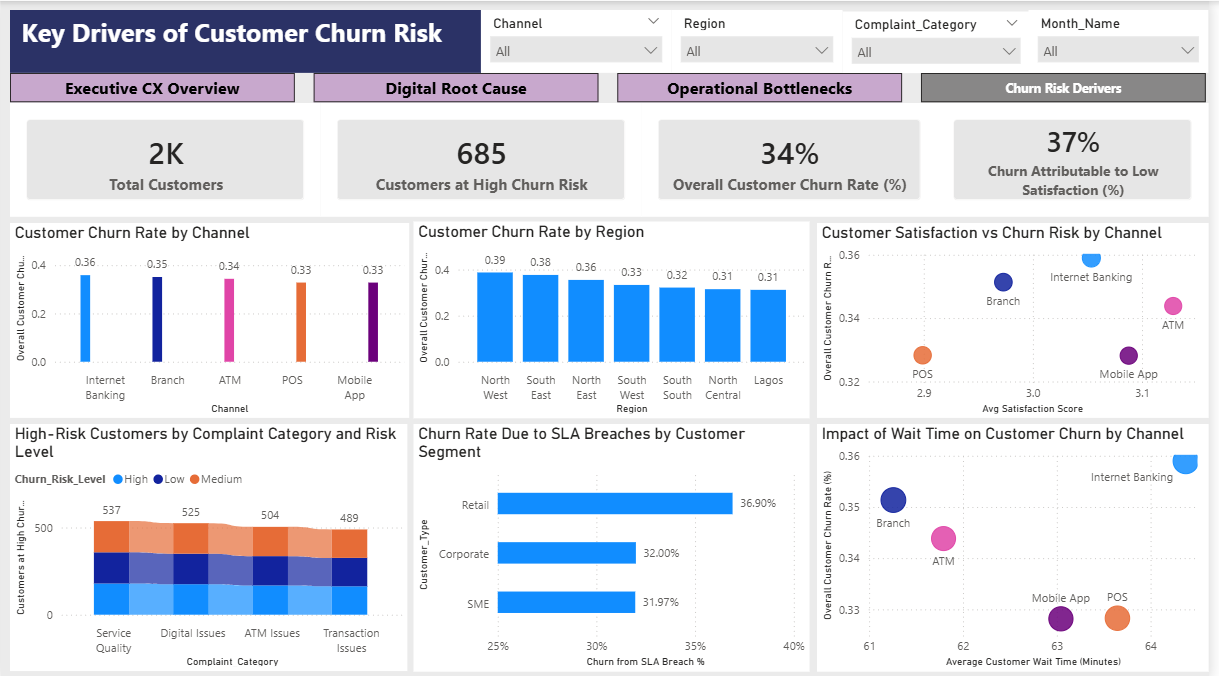

What the dashboard file says about the page in this screenshot:
{"tool":"powerbi","page":{"name":"Churn Risk Derivers","canvas":[1280,720],"ordinal":3},"visuals":[{"type":"slicer","fields":{"Values":["Dim_Channel.Channel"]},"box":[509,9.5,202,66.8],"z":0},{"type":"slicer","fields":{"Values":["Dim_Branch.Region"]},"box":[711,9.5,181.3,66.8],"z":1000},{"type":"slicer","fields":{"Values":["Dim_Complaint.Complaint_Category"]},"box":[892.3,11.1,198.8,65.2],"z":2000},{"type":"slicer","fields":{"Values":["Dim_Date.Month_Name"]},"box":[1089.6,9.5,190.9,66.8],"z":3000},{"type":"cardVisual","fields":{"Data":["Fact_Complaints.Total Customers"]},"box":[0,108.2,329.3,120.9],"z":4000},{"type":"cardVisual","fields":{"Data":["Fact_Complaints.High Churn Customers"]},"box":[338.8,108.2,340.4,120.9],"z":5000},{"type":"cardVisual","fields":{"Data":["Fact_Complaints.Churn Rate %"]},"box":[679.2,108.2,313.4,120.9],"z":6000},{"type":"cardVisual","fields":{"Data":["Fact_Complaints.Churn from Low Satisfaction %"]},"box":[959.1,108.2,321.3,120.9],"z":7000},{"type":"clusteredColumnChart","title":"Customer Churn Rate by Channel","fields":{"Category":["Dim_Channel.Channel"],"Y":["Fact_Complaints.Churn Rate %"],"Series":["Dim_Channel.Channel"]},"box":[0,235.4,432.6,206.8],"z":8000},{"type":"clusteredColumnChart","title":"Customer Churn Rate by Region","fields":{"Category":["Dim_Branch.Region"],"Y":["Fact_Complaints.Churn Rate %"]},"box":[437.4,233.8,419.9,208.4],"z":9000},{"type":"scatterChart","title":"Customer Satisfaction vs Churn Risk by Channel","fields":{"X":["Fact_Complaints.Avg Satisfaction Score"],"Y":["Fact_Complaints.Churn Rate %"],"Series":["Dim_Channel.Channel"],"Size":["Fact_Complaints.Total Customers"]},"box":[865.3,235.4,415.1,206.8],"z":10000},{"type":"columnChart","title":"High-Risk Customers by Complaint Category and Risk Level","fields":{"Category":["Dim_Complaint.Complaint_Category"],"Y":["Fact_Complaints.High Churn Customers"],"Series":["Fact_Complaints.Churn_Risk_Level"]},"box":[9.5,448.6,421.5,261.9],"z":11000},{"type":"clusteredBarChart","title":"Churn Rate Due to SLA Breaches by Customer Segment","fields":{"Category":["Dim_Customer.Customer_Type"],"Y":["Fact_Complaints.Churn from SLA Breach %"]},"box":[437.4,448.6,419.9,262.5],"z":12000},{"type":"scatterChart","title":"Impact of Wait Time on Customer Churn by Channel","fields":{"X":["Fact_Complaints.Avg Wait Time (Minutes)"],"Y":["Fact_Complaints.Churn Rate %"],"Series":["Dim_Channel.Channel"],"Size":["Fact_Complaints.Total Customers"]},"box":[865.3,448.6,415.1,262.5],"z":13000},{"type":"textbox","box":[9.5,9.5,499.5,66.8],"z":14000},{"type":"pageNavigator","box":[9.5,76.3,1259.8,31.8],"z":15000}]}

Visuals, with their boxes in screenshot pixels (x1, y1, x2, y2), scaled from the page's 1280x720 canvas onto the 1219x676 screenshot:
slicer - Dim_Channel.Channel: 485:9:677:72
slicer - Dim_Branch.Region: 677:9:850:72
slicer - Dim_Complaint.Complaint_Category: 850:10:1039:72
slicer - Dim_Date.Month_Name: 1038:9:1218:72
cardVisual - Fact_Complaints.Total Customers: 0:102:314:215
cardVisual - Fact_Complaints.High Churn Customers: 323:102:647:215
cardVisual - Fact_Complaints.Churn Rate %: 647:102:945:215
cardVisual - Fact_Complaints.Churn from Low Satisfaction %: 913:102:1218:215
"Customer Churn Rate by Channel" clusteredColumnChart: 0:221:412:415
"Customer Churn Rate by Region" clusteredColumnChart: 417:220:816:415
"Customer Satisfaction vs Churn Risk by Channel" scatterChart: 824:221:1218:415
"High-Risk Customers by Complaint Category and Risk Level" columnChart: 9:421:410:667
"Churn Rate Due to SLA Breaches by Customer Segment" clusteredBarChart: 417:421:816:668
"Impact of Wait Time on Customer Churn by Channel" scatterChart: 824:421:1218:668
textbox: 9:9:485:72
pageNavigator: 9:72:1209:101
